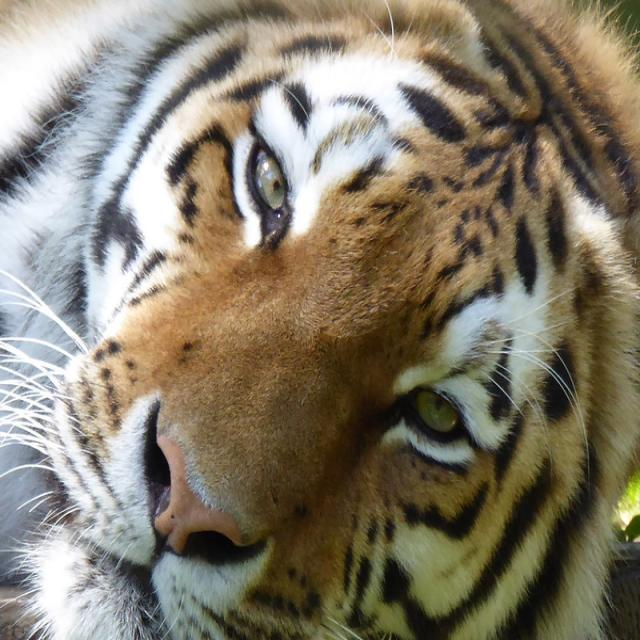Tiger: (1, 1, 619, 639)
